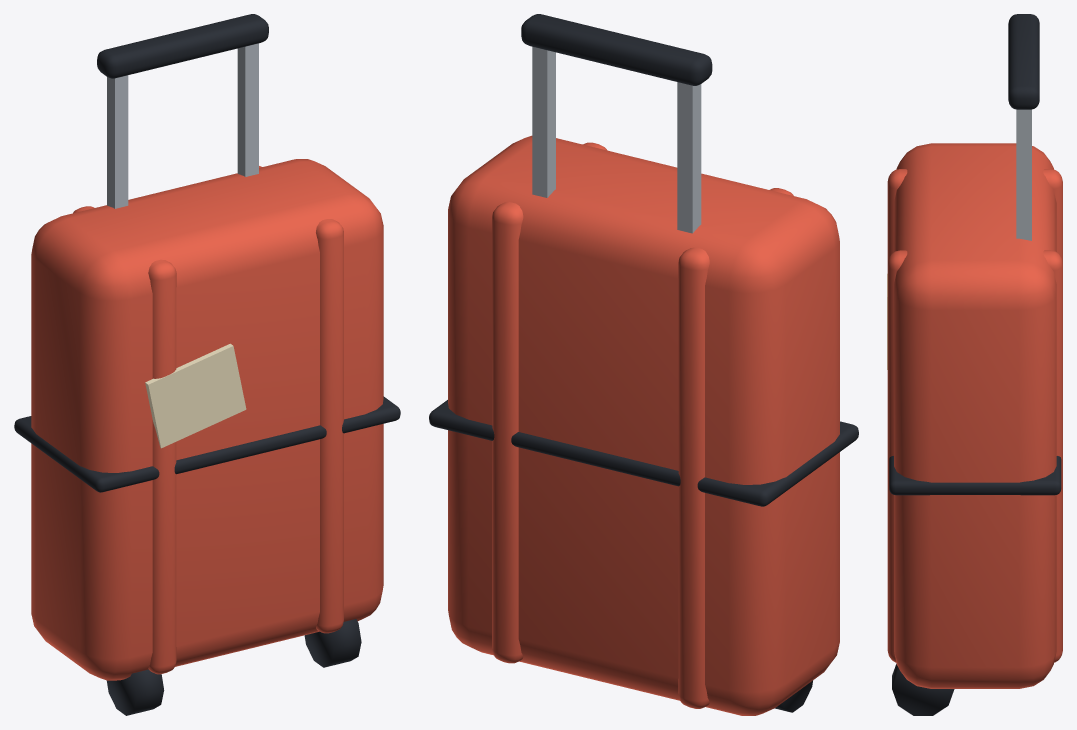
Rendered from suitcase_coral.glb.
3 views of the same model, side by side, from view 1: azimuth 30°, elevation 25°; view 2: azimuth 150°, elevation 25°; view 3: azimuth 270°, elevation 25° (orthographic). The views are drawn at different scales.
Visible parts, largest first — view 1: body, rib0.15400000000000003, rib-0.15400000000000003, sticker, zip, grip, rod-0.12, rod0.12, wheel-0.18150000000000002, wheel0.18150000000000002; view 2: body, rib-0.15400000000000003, rib0.15400000000000003, zip, grip, rod-0.12, rod0.12; view 3: body, rib0.15400000000000003, grip, zip, rod0.12, wheel0.18150000000000002, rib-0.15400000000000003.
Part boxes in pixels (left/top/right/bottom): body: left=31, top=159, right=383, bottom=680; rib0.15400000000000003: left=259, top=166, right=343, bottom=633; rib-0.15400000000000003: left=73, top=206, right=176, bottom=674; sticker: left=145, top=343, right=246, bottom=448; zip: left=14, top=396, right=400, bottom=492; grip: left=97, top=14, right=268, bottom=78; rod-0.12: left=107, top=75, right=128, bottom=208; rod0.12: left=237, top=43, right=258, bottom=176; wheel-0.18150000000000002: left=106, top=669, right=164, bottom=715; wheel0.18150000000000002: left=304, top=619, right=361, bottom=667; body: left=448, top=135, right=839, bottom=715; rib-0.15400000000000003: left=678, top=188, right=793, bottom=708; rib0.15400000000000003: left=492, top=142, right=607, bottom=663; zip: left=429, top=400, right=858, bottom=506; grip: left=521, top=14, right=712, bottom=85; rod-0.12: left=677, top=82, right=701, bottom=233; rod0.12: left=532, top=46, right=555, bottom=197; body: left=894, top=143, right=1056, bottom=688; rib0.15400000000000003: left=887, top=250, right=1062, bottom=662; grip: left=1008, top=14, right=1039, bottom=109; zip: left=889, top=456, right=1061, bottom=495; rod0.12: left=1016, top=109, right=1031, bottom=240; wheel0.18150000000000002: left=892, top=663, right=954, bottom=715; rib-0.15400000000000003: left=887, top=169, right=1062, bottom=262.
Bounding box in the file's own units: 0.56 × 1.08 × 0.281.
